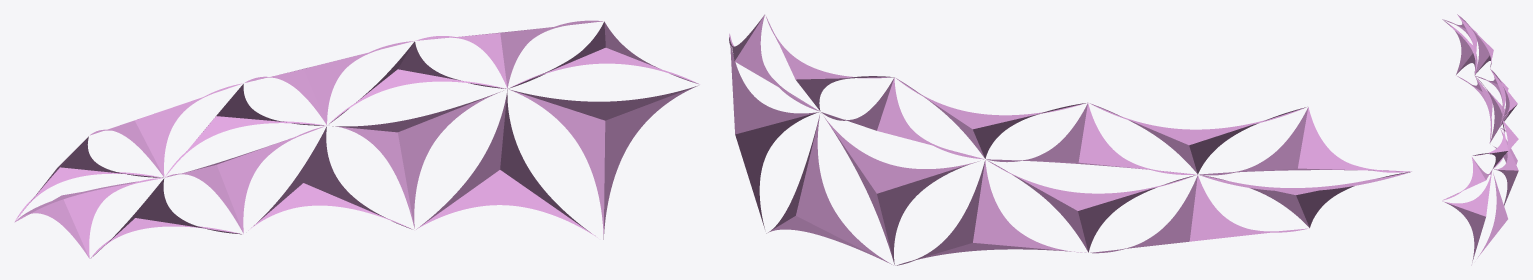
Rendered from TYPE48-5.glb.
3 renders of one model, left to right at view 1: azimuth 30°, elevation 25°; view 2: azimuth 150°, elevation 25°; view 3: azimuth 270°, elevation 25°, orthographic. The views are drawn at different scales.
Parts seen in each view (by area): view 1: TYPE48-5 (×33); view 2: TYPE48-5 (×33); view 3: TYPE48-5 (×26).
Boxes of the visible parts, bbox=[...] form: TYPE48-5 (×33): bbox=[14, 20, 698, 258]; TYPE48-5 (×33): bbox=[730, 15, 1410, 265]; TYPE48-5 (×26): bbox=[1442, 14, 1518, 262].
Size of the model in its own units: 36.63 by 12.54 by 7.19.
